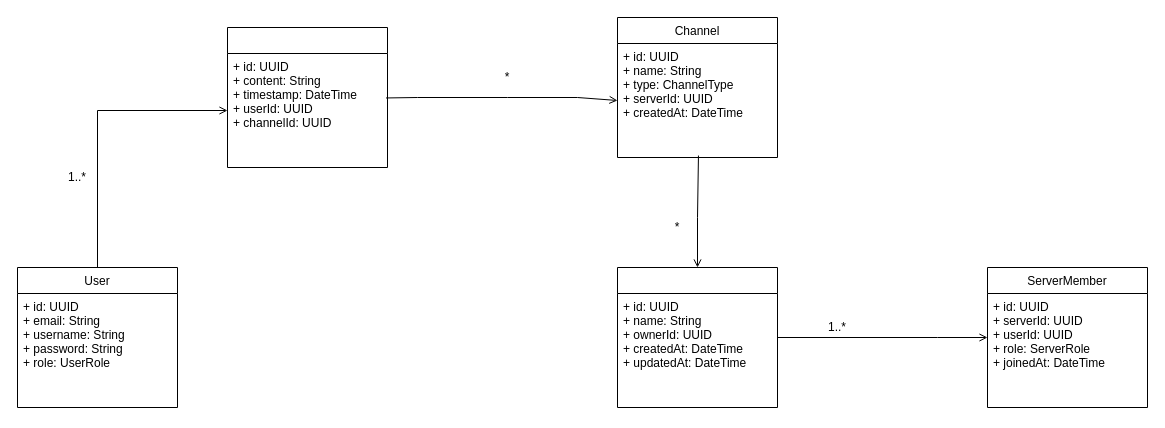
Some shapes in this 1165 by 428 pixel diagram are drawn without their labels. The shapes that lost their labels are listed below. From the top down, each one's box as (x1, y1, x2, y2) in pixels, then its label:
(226, 26, 388, 168): Message
(616, 266, 778, 408): Server
